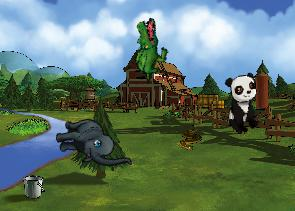crocodile: (120, 15, 177, 84)
elephant: (52, 110, 132, 179)
panda: (223, 72, 262, 135)
